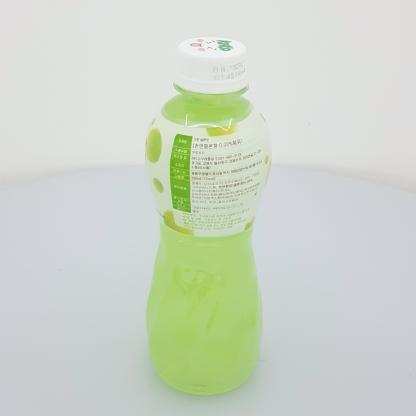-----------: (145, 36, 273, 395)
